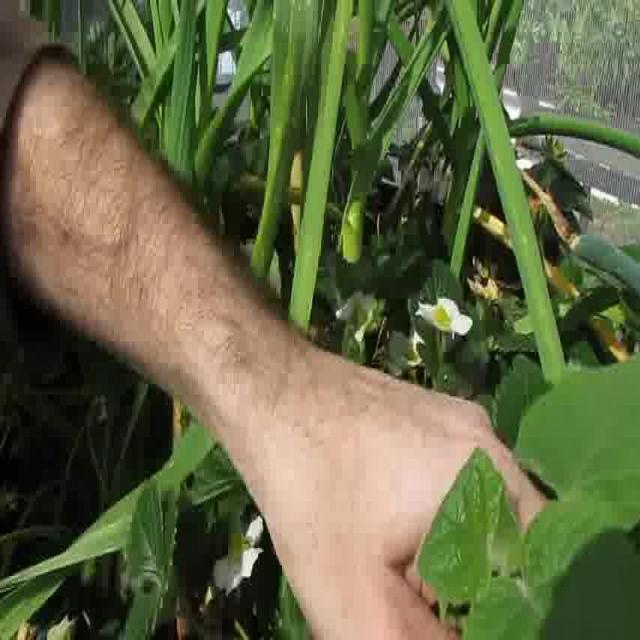Fruta sana: (227, 530, 246, 567), (434, 303, 451, 327), (346, 308, 368, 325)
